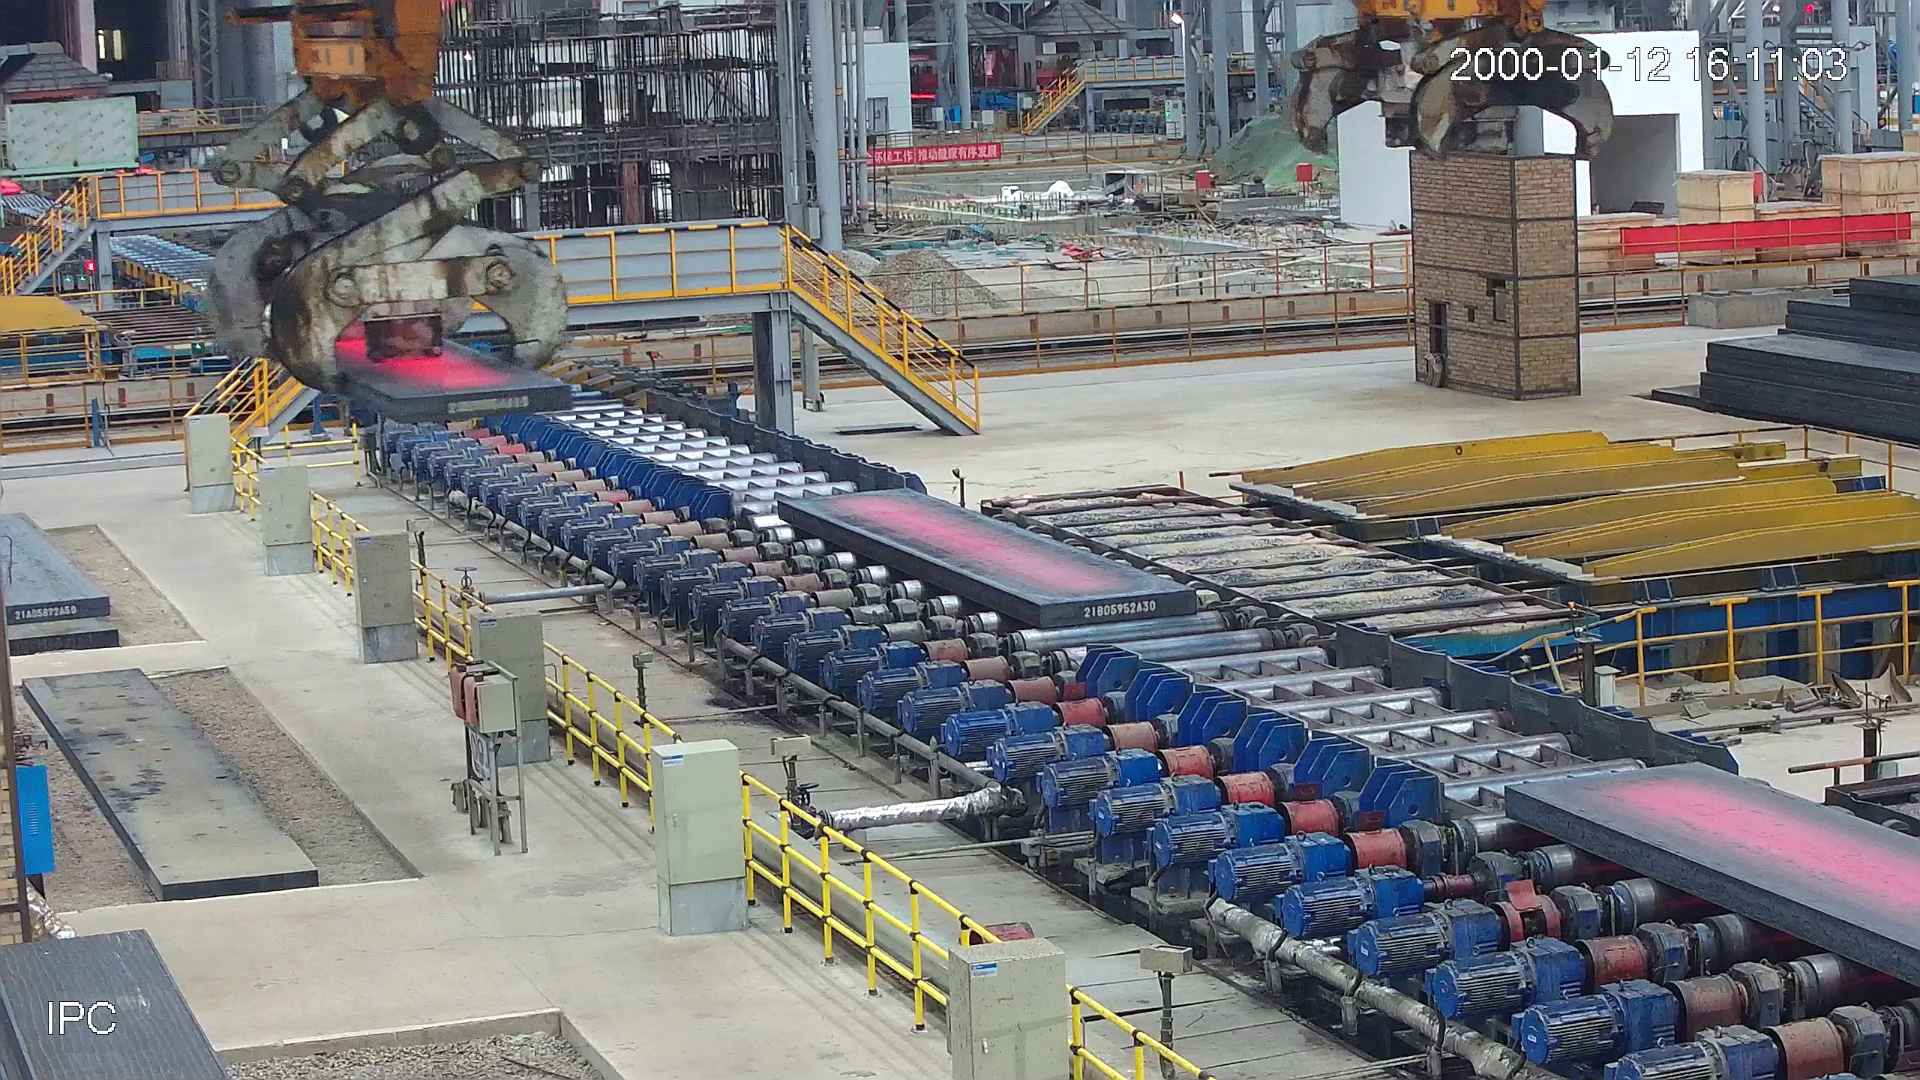crane: (1283, 1, 1622, 182)
craneandslab: (208, 1, 578, 423)
slab: (1502, 765, 1920, 988), (775, 489, 1199, 630)
